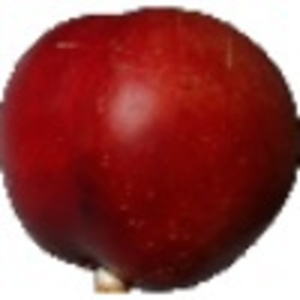nectarina: (1, 5, 300, 296)
